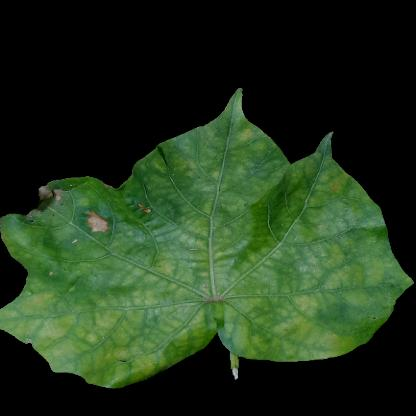curl_stage1: (224, 249, 384, 351), (24, 273, 217, 347), (180, 170, 332, 250), (67, 243, 205, 274), (85, 346, 163, 381), (327, 206, 381, 246), (220, 128, 262, 162)
